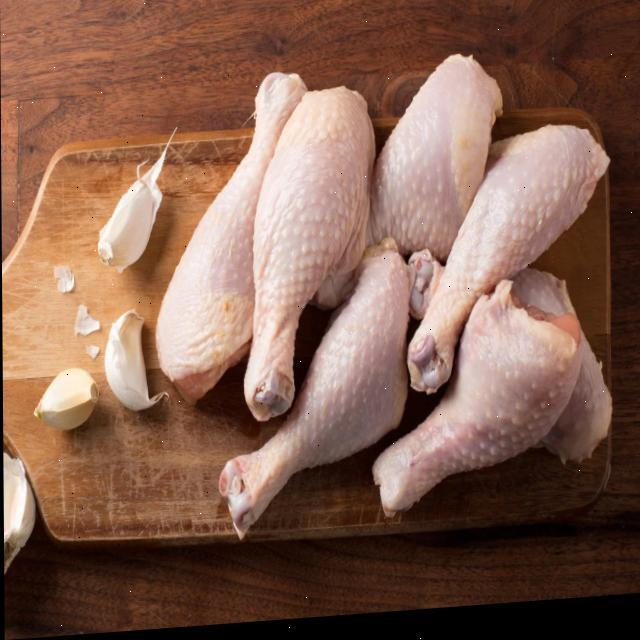leg: (218, 248, 417, 546), (422, 125, 604, 408), (382, 283, 580, 537), (154, 67, 296, 396), (248, 82, 363, 414)
